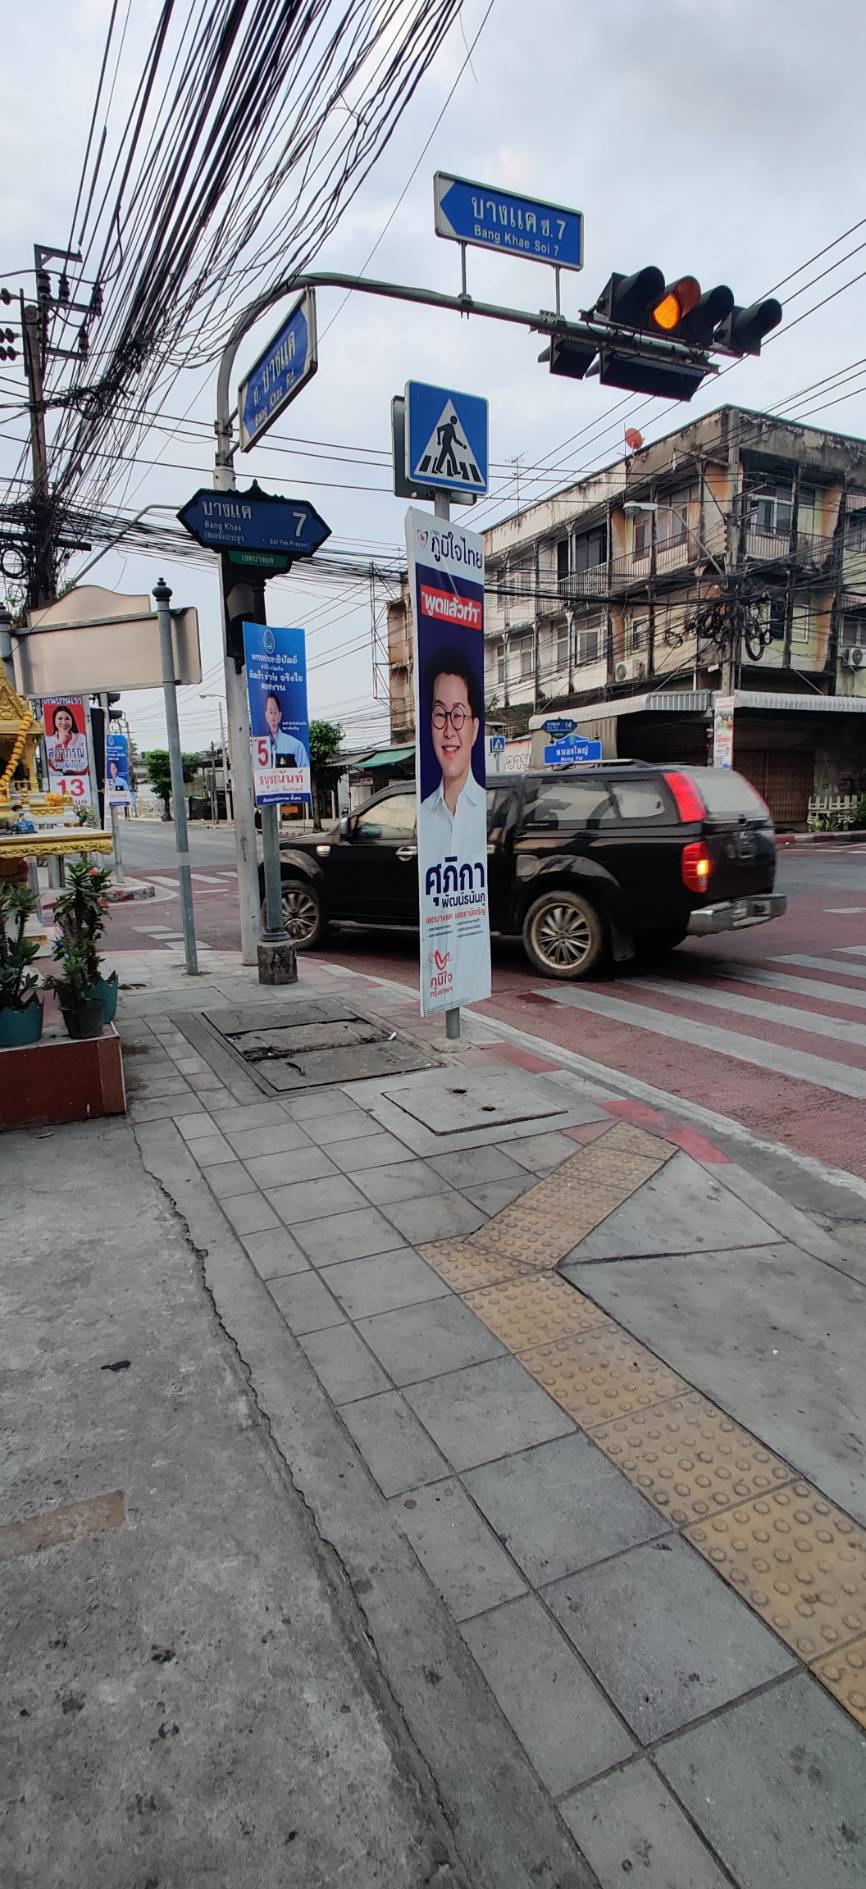Banner: (403, 514, 497, 1041)
